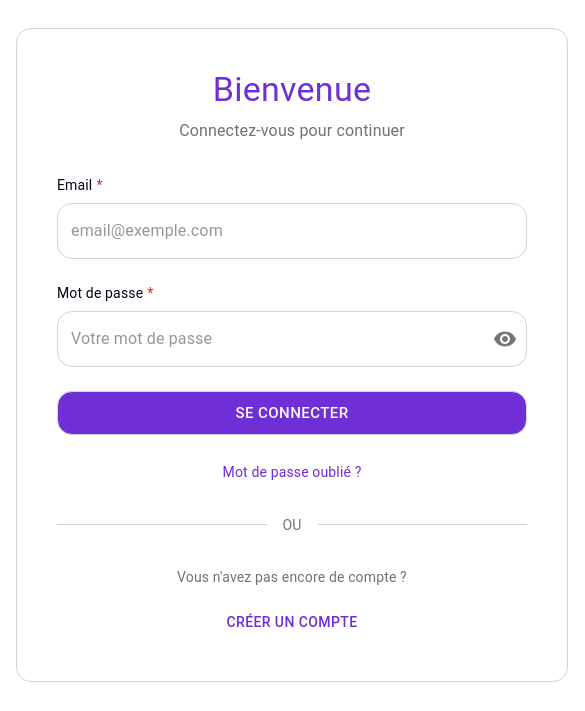
Test case: LoginPage › Form Validation › should show an email validation error for invalid email format
In the field with placeholder "email@exemple.com": [292, 231] box [57,203,527,259], type "invalid-email"
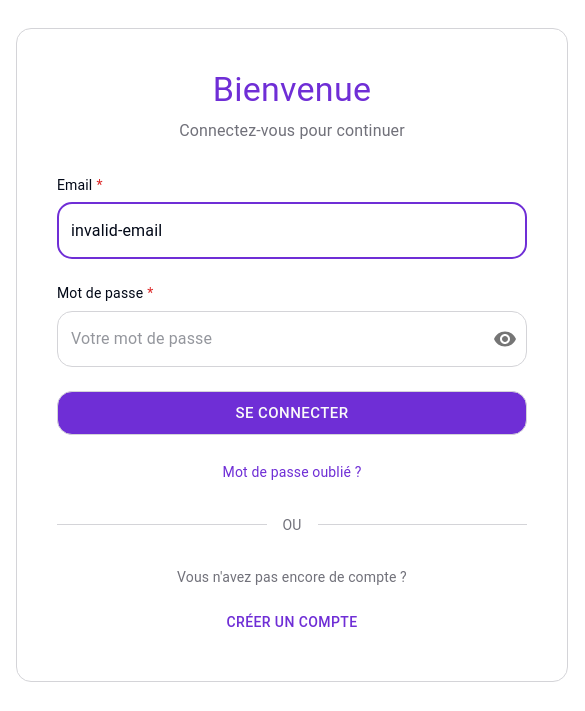
Press Tab
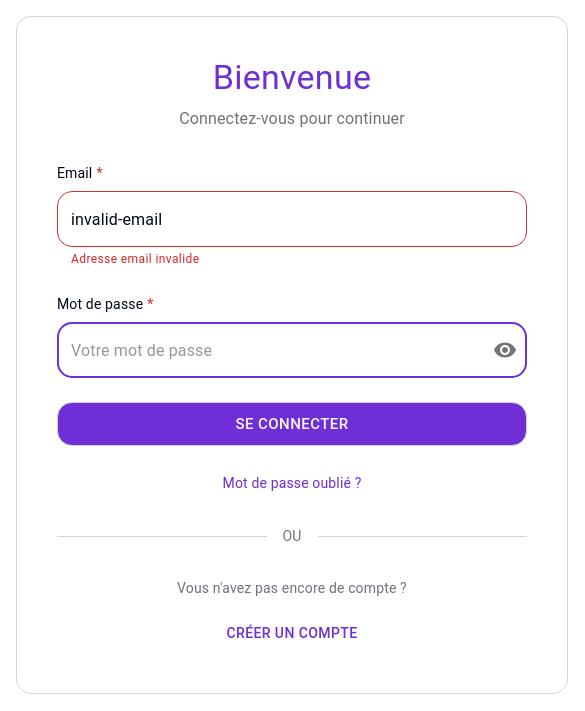
Expected: the text "Adresse email invalide" is shown, [71,252,199,266]
